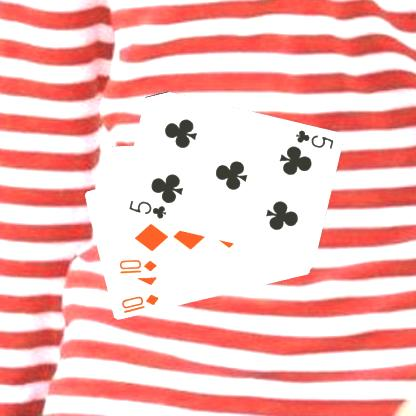10D: (119, 291, 160, 315), (116, 257, 158, 276)
5C: (292, 127, 334, 150), (126, 198, 167, 220)
